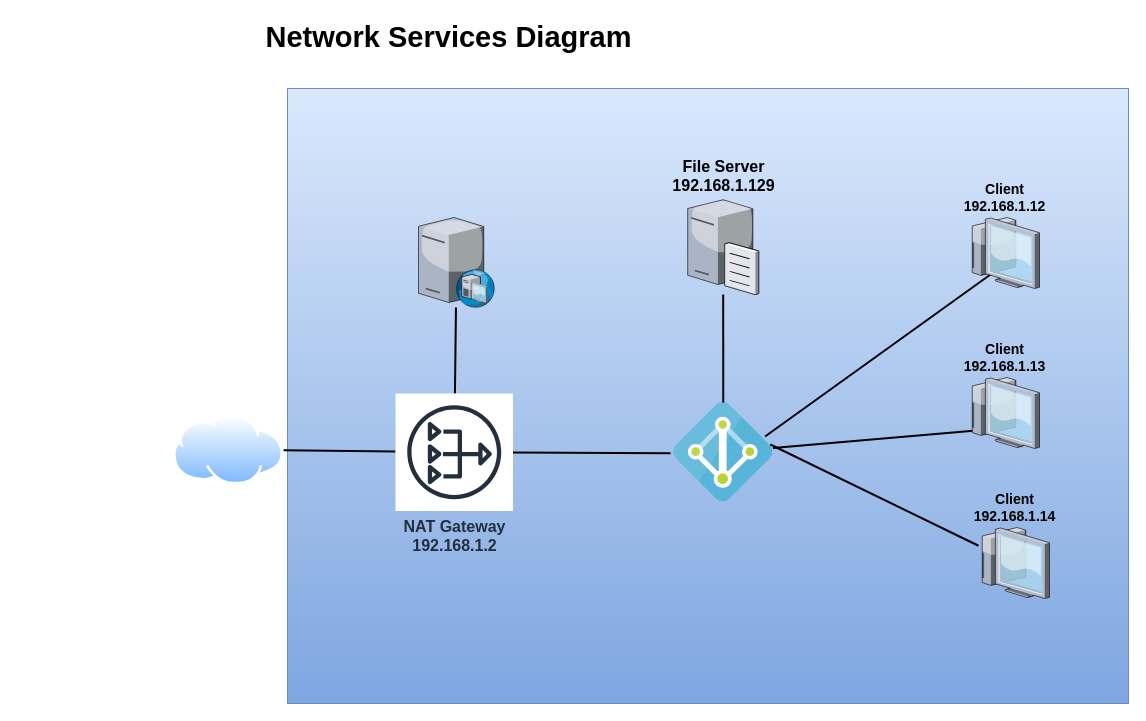
Image size: 1146x721. Some labels were removed from this diagram. Each missing label, with the box of its shape:
Dc-Controller 192.168.1.128: (673, 402, 772, 501)
DHCP Failover 192.168.1.130: (418, 217, 494, 307)
Internet: (173, 415, 283, 484)
